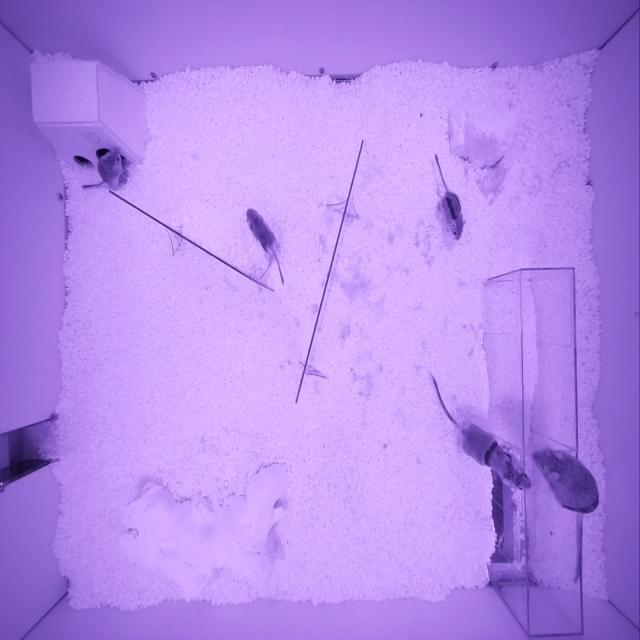adult_back: (531, 447, 599, 513)
adult_front: (458, 421, 532, 491)
pup_fluffy: (97, 144, 126, 188)
pup_spotted: (246, 207, 276, 253)
pup_v_stripe: (439, 191, 467, 241)
